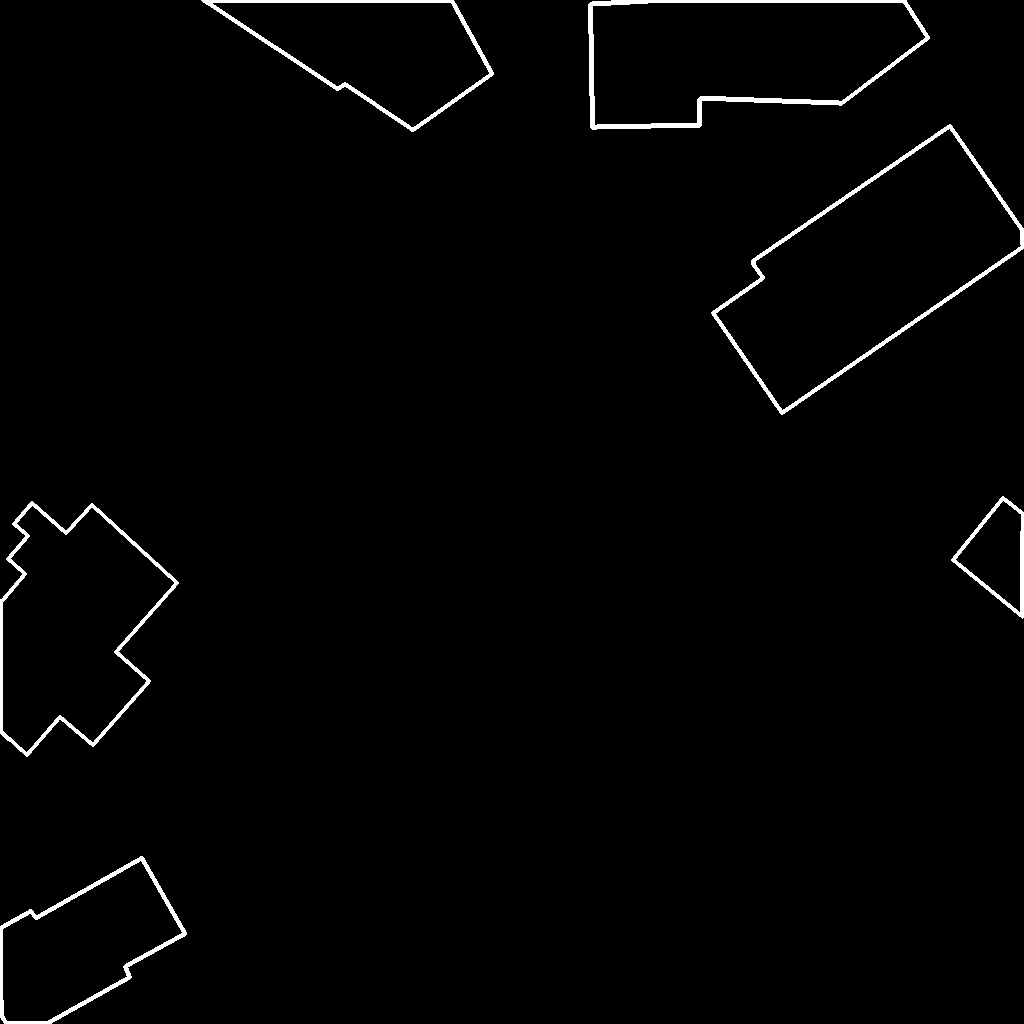building: (713, 126, 1024, 414), (0, 503, 178, 756), (590, 0, 929, 128), (203, 0, 493, 131), (0, 858, 186, 1024), (953, 498, 1024, 618)
